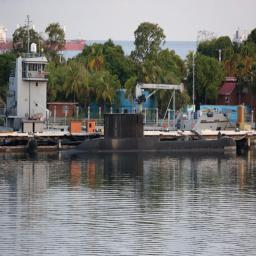submarine: (77, 114, 238, 152)
